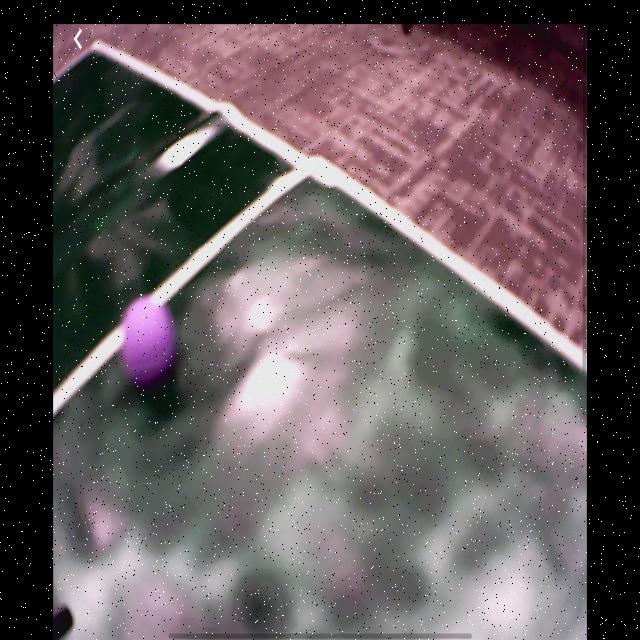ball: (120, 295, 178, 385)
